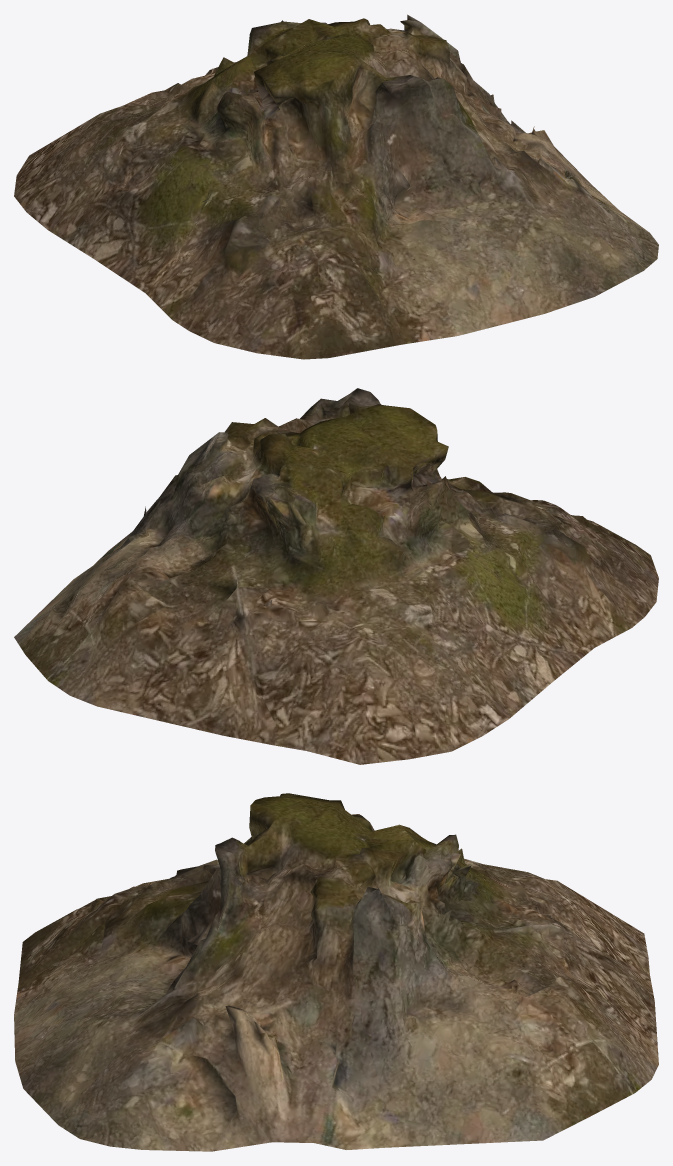
The model's file is stump.glb.
3 views of the same model, one above another, from view 1: azimuth 30°, elevation 25°; view 2: azimuth 150°, elevation 25°; view 3: azimuth 270°, elevation 25° (orthographic). The views are drawn at different scales.
Parts seen in each view (by area): view 1: tree_stump_01; view 2: tree_stump_01; view 3: tree_stump_01.
Boxes of the visible parts, <box> form: tree_stump_01: <box>14,14,658,359</box>; tree_stump_01: <box>14,388,658,764</box>; tree_stump_01: <box>14,793,658,1151</box>.
Size of the model in its own units: 1.43 by 0.571 by 1.59.
1 material, 1 textured.
